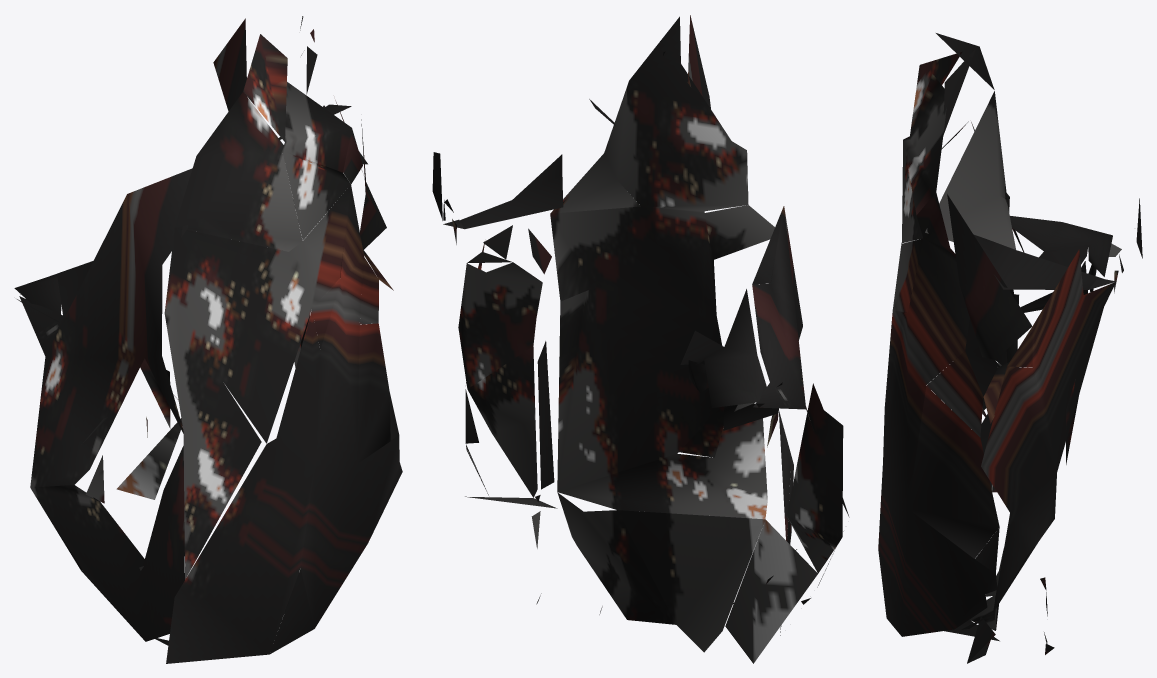
3 renders of one model, left to right at view 1: azimuth 30°, elevation 25°; view 2: azimuth 150°, elevation 25°; view 3: azimuth 270°, elevation 25°, orthographic.
Visible parts, largest first — view 1: body.002; view 2: body.002; view 3: body.002.
Part boxes in pixels (x1,y1,x2,y2): body.002: (14, 16, 402, 663); body.002: (432, 15, 849, 663); body.002: (878, 33, 1142, 663).
Bounding box in the file's own units: 1.22 × 1.93 × 0.7451.
Materials: 1 (1 with a texture image).
